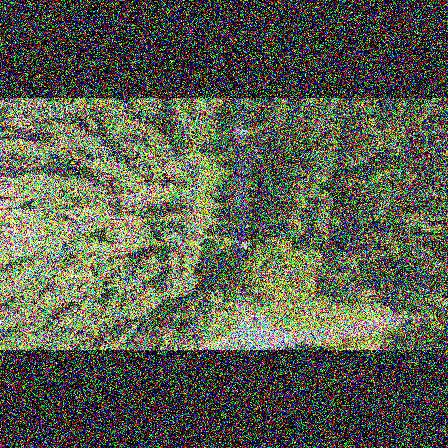Sick: (120, 191, 138, 210)
